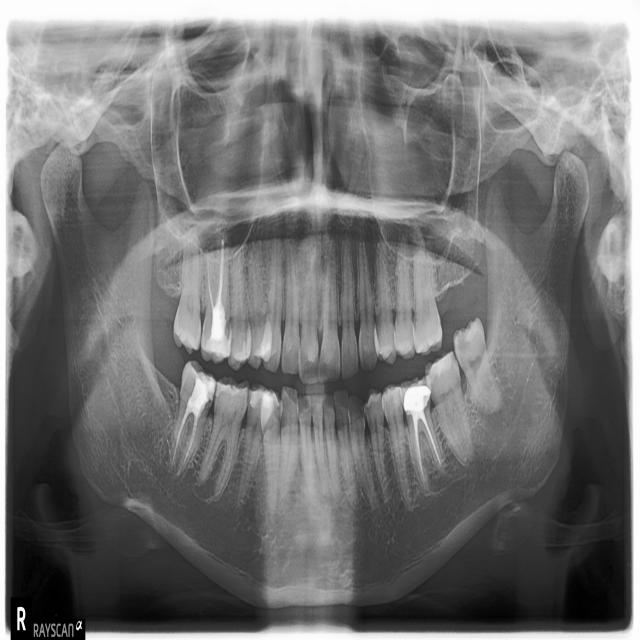mandibula: (38, 142, 592, 609)
